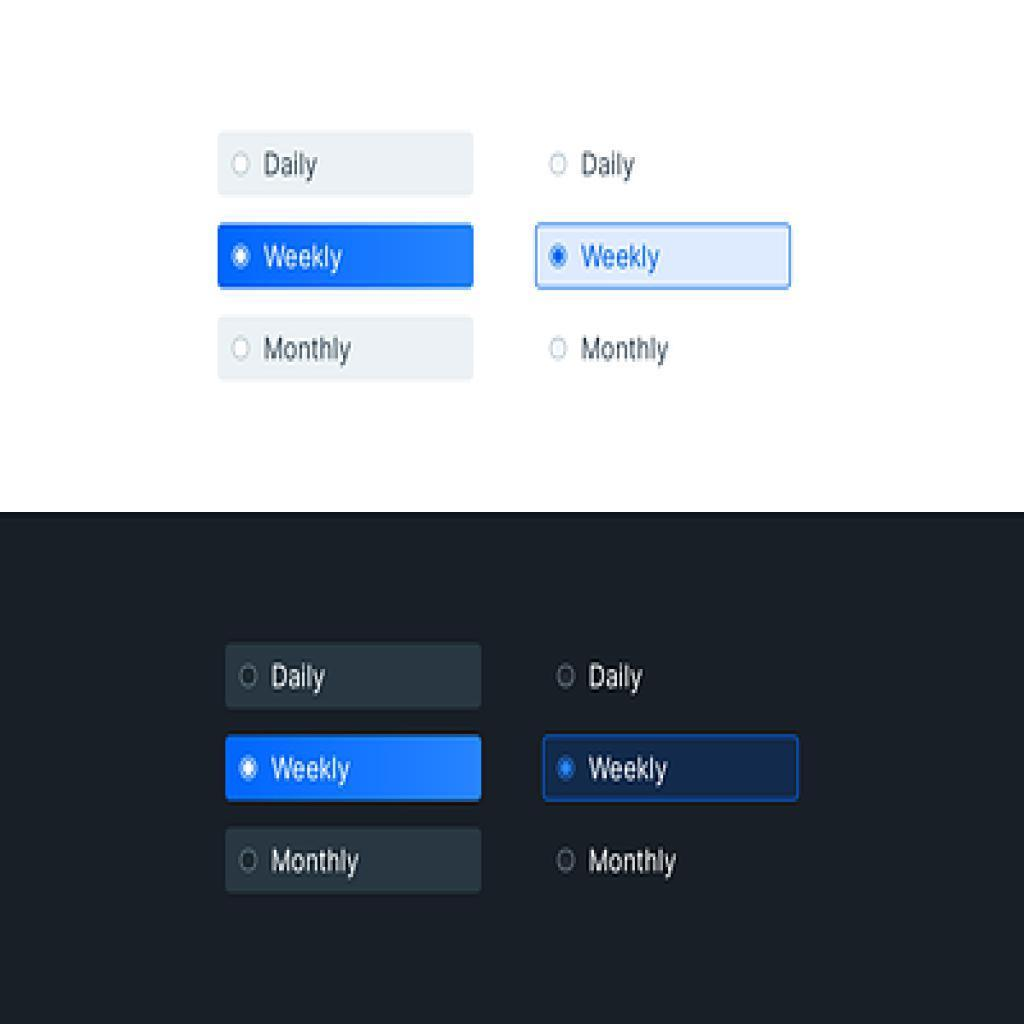label: (581, 334, 674, 373), (271, 847, 362, 884), (262, 334, 355, 370), (589, 846, 681, 882), (270, 754, 355, 791), (579, 239, 663, 276), (586, 753, 670, 790), (265, 239, 343, 277), (262, 146, 321, 187), (271, 663, 331, 699), (586, 661, 649, 695), (581, 148, 636, 183)
radio: (236, 846, 263, 879), (556, 662, 580, 696), (235, 662, 263, 691), (237, 754, 261, 787), (546, 150, 571, 179), (231, 243, 254, 273), (548, 334, 571, 364), (556, 754, 578, 785), (556, 850, 580, 878), (231, 335, 253, 365), (230, 153, 253, 181), (550, 243, 571, 271)
